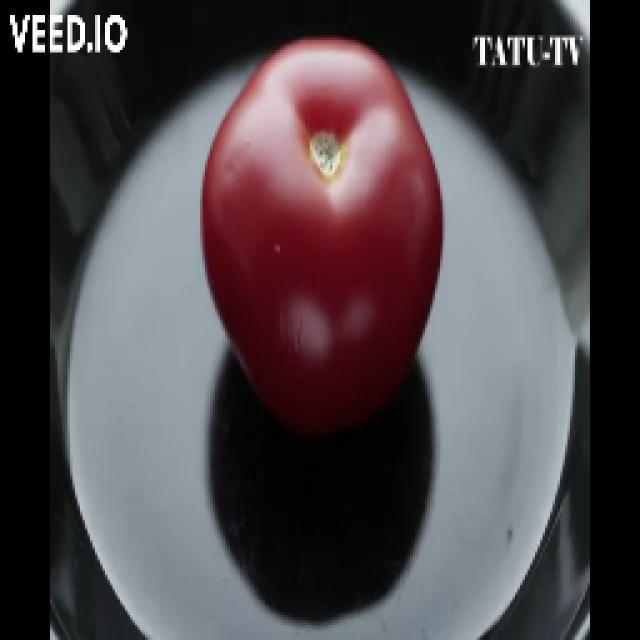tomato: (199, 38, 444, 444)
